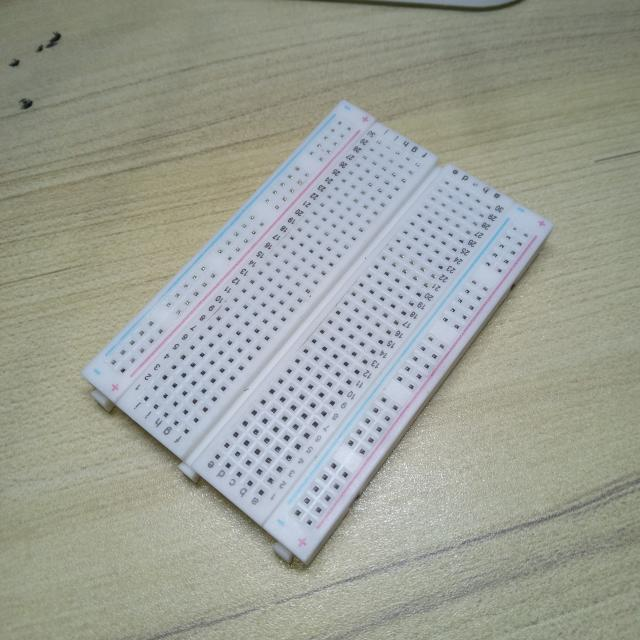breadboard: (77, 88, 558, 577)
